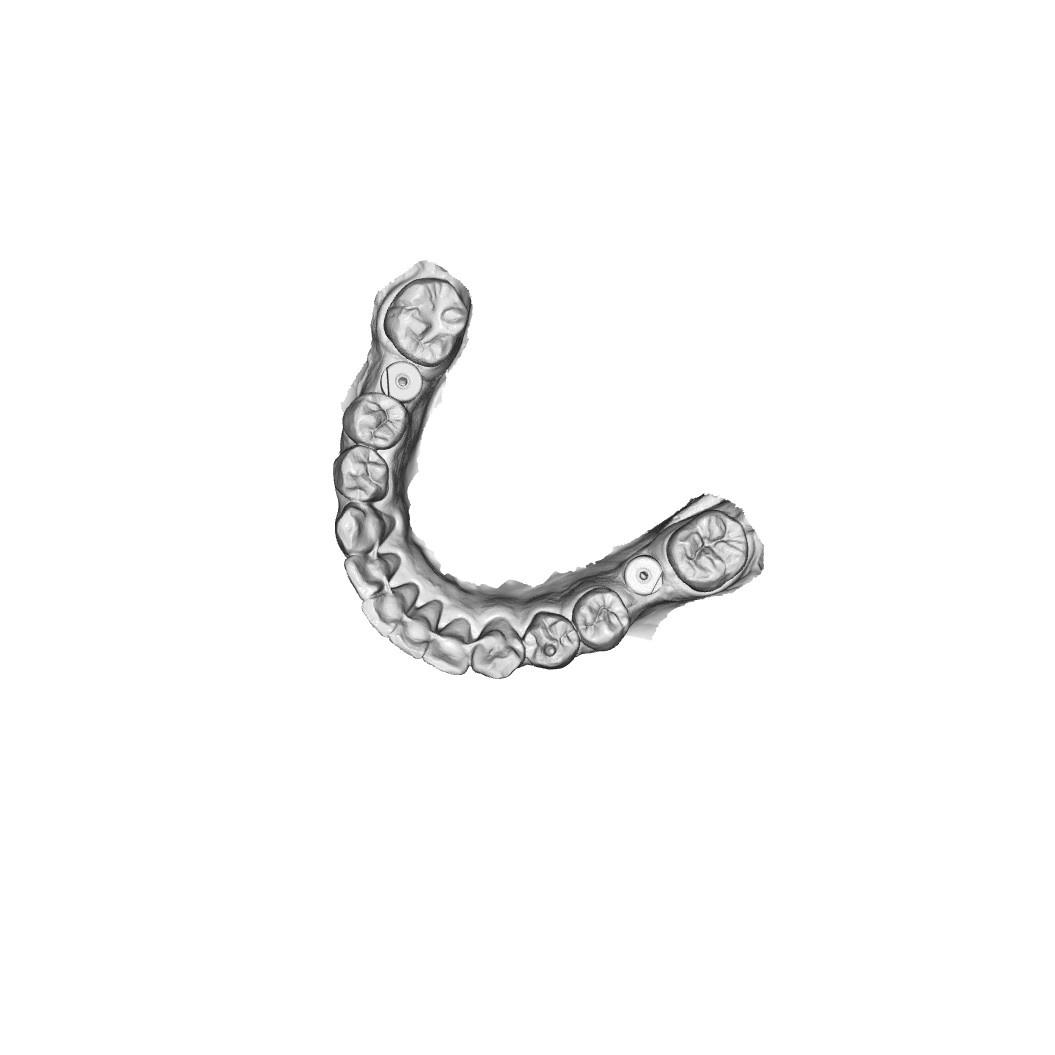canine: (474, 619, 522, 684), (334, 504, 394, 555)
implant: (377, 360, 425, 403), (620, 553, 663, 598)
incisor: (341, 551, 402, 598), (361, 588, 415, 639), (425, 622, 474, 676), (388, 609, 436, 660)
molar: (384, 274, 469, 367), (666, 510, 751, 593)
premolar: (342, 393, 413, 450), (571, 587, 633, 652), (521, 609, 582, 672), (331, 445, 394, 503)
